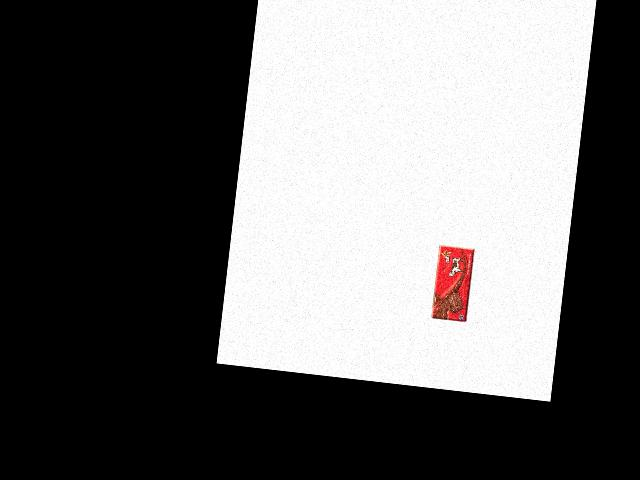chocolate: (423, 250, 467, 323)
